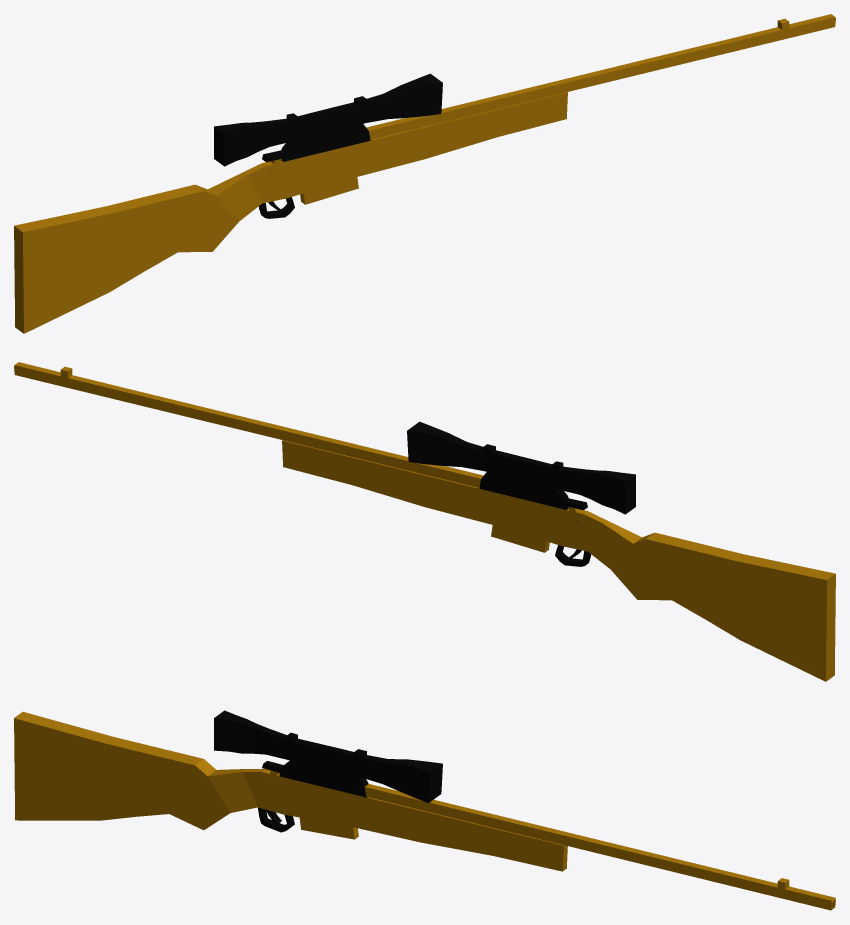
The model's file is sniper.fbx.
3 renders of one model, top to bottom at view 1: azimuth 30°, elevation 25°; view 2: azimuth 150°, elevation 25°; view 3: azimuth 330°, elevation 25°, orthographic.
Visible parts, largest first — view 1: Sniper; view 2: Sniper; view 3: Sniper.
Part boxes in pixels (<box>): Sniper: <box>14,14,835,333</box>; Sniper: <box>14,362,835,681</box>; Sniper: <box>14,710,835,910</box>.
Bounding box in the file's own units: 916 × 163 × 24.62.
